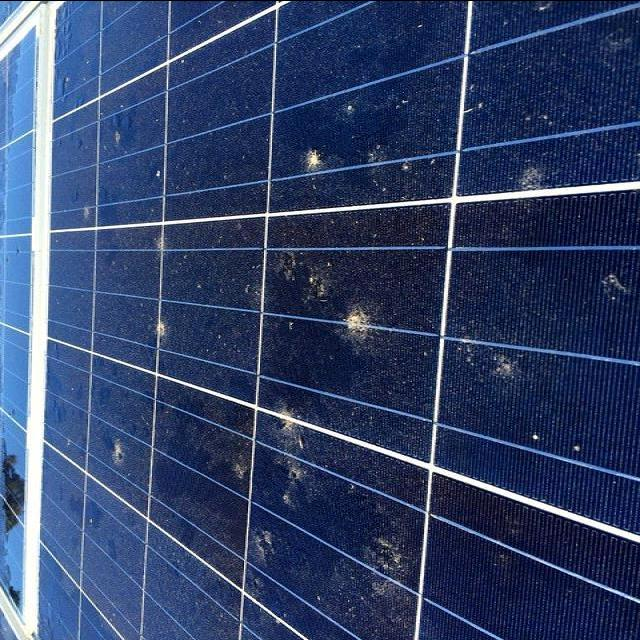soiled: (35, 4, 637, 638)
